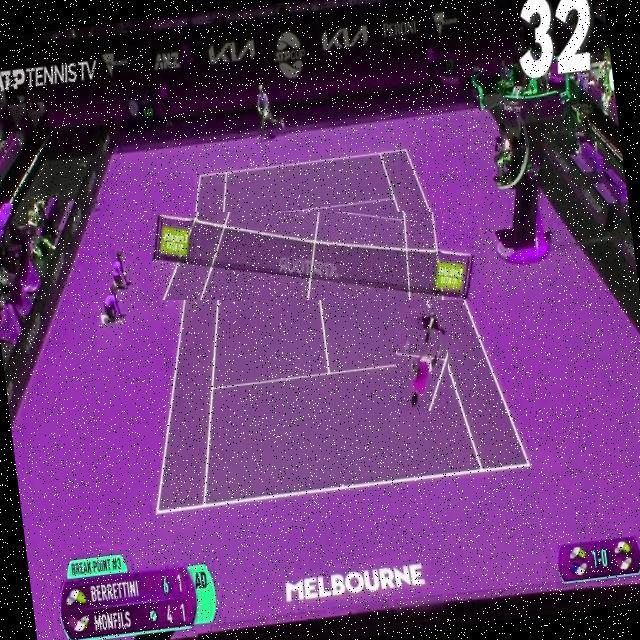court: (114, 138, 532, 514)
net: (152, 212, 476, 300)
player: (396, 308, 448, 411)
